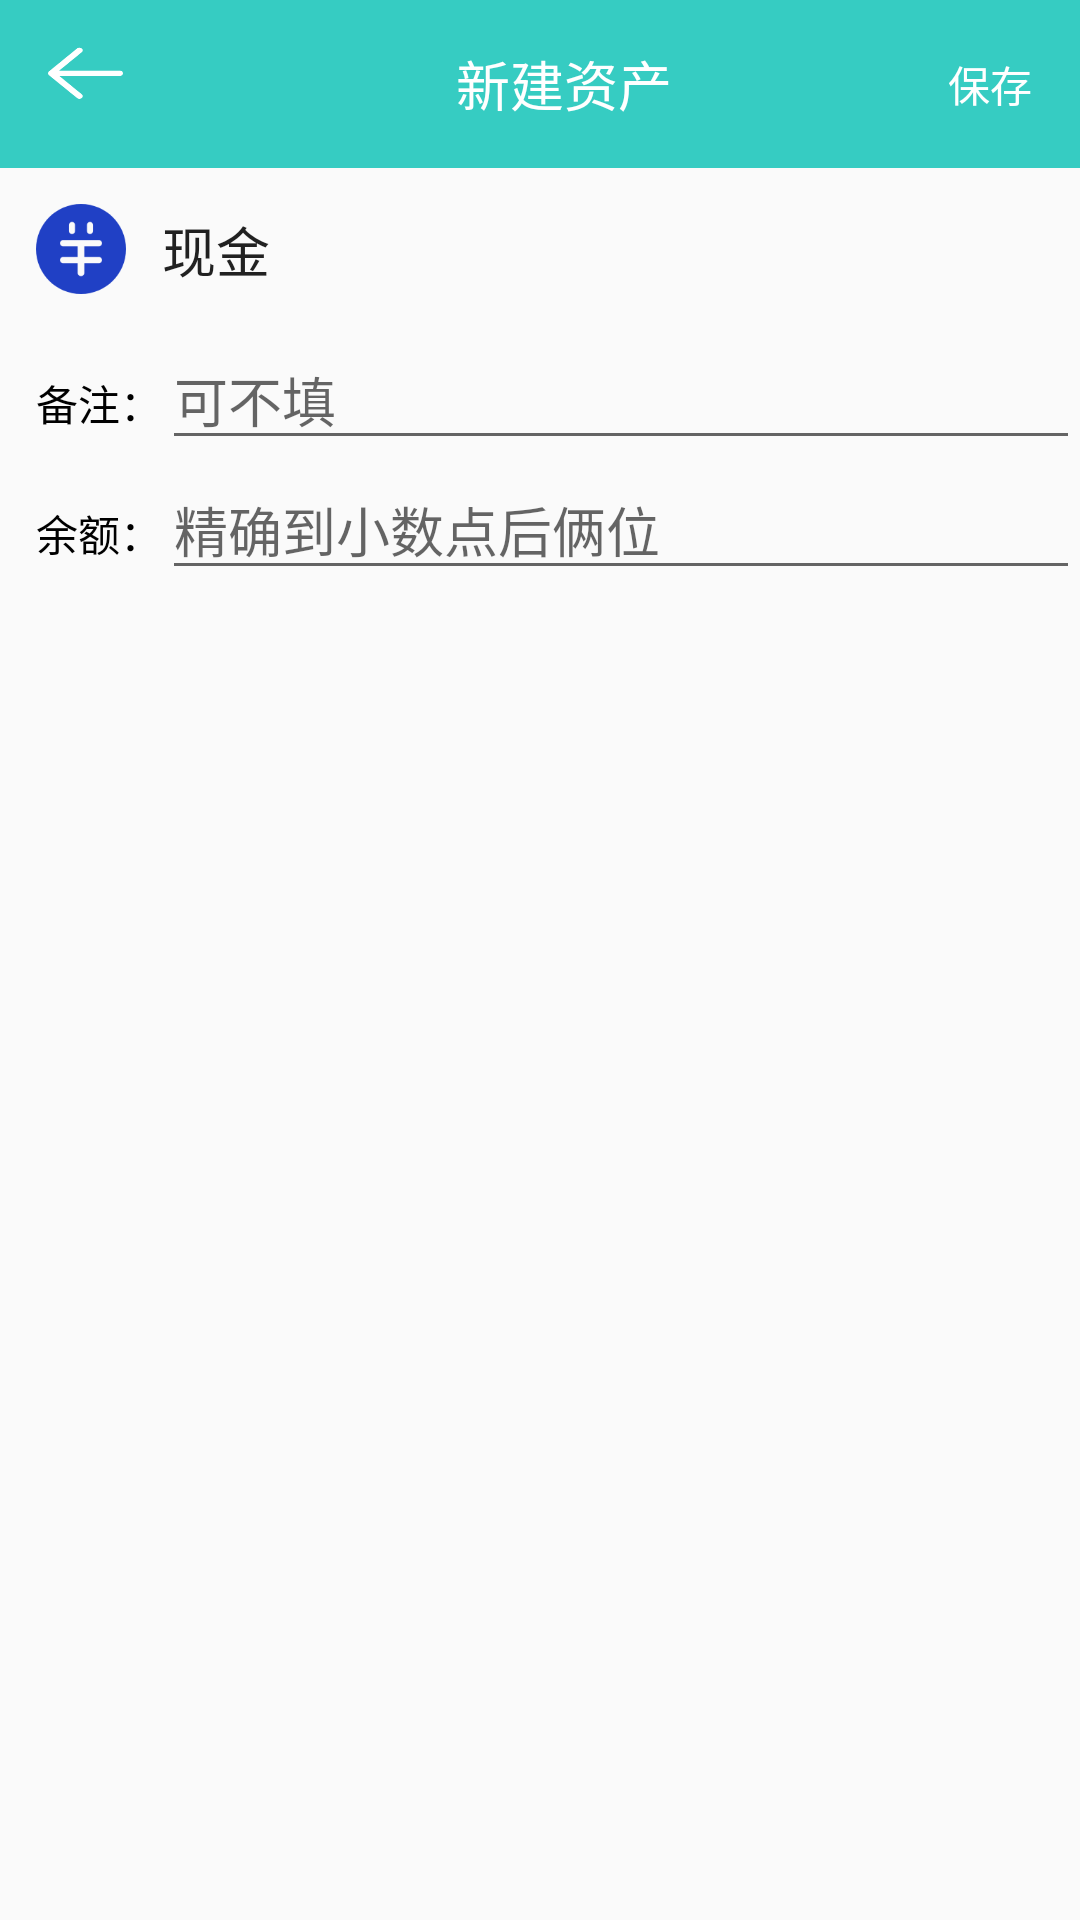

Where to tap for icons on this 1080px×1920px app screen, as (x,y):
assets cash: (81,249)
pre: (85,73)
